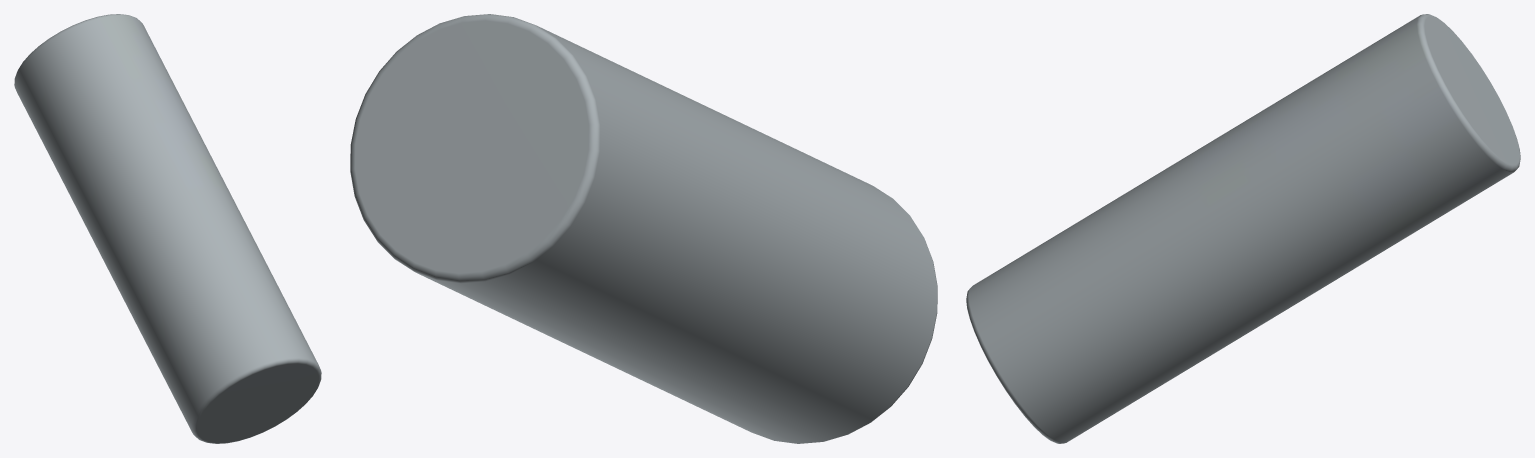
Rendered from vacuumNozzle.glb.
The picture shows the model from 3 angles, left to right: view 1: azimuth 30°, elevation 25°; view 2: azimuth 150°, elevation 25°; view 3: azimuth 270°, elevation 25°; orthographic projection. The views are drawn at different scales.
Parts seen in each view (by area): view 1: Rigid hose nozzle; view 2: Rigid hose nozzle; view 3: Rigid hose nozzle.
Boxes of the visible parts, box(x1,y1,x2,y2) form: Rigid hose nozzle: box(14, 14, 321, 443); Rigid hose nozzle: box(350, 14, 937, 443); Rigid hose nozzle: box(966, 14, 1520, 443).
Bounding box in the file's own units: 0.048 × 0.1188 × 0.1455.
Materials: 1 (1 with a texture image).
